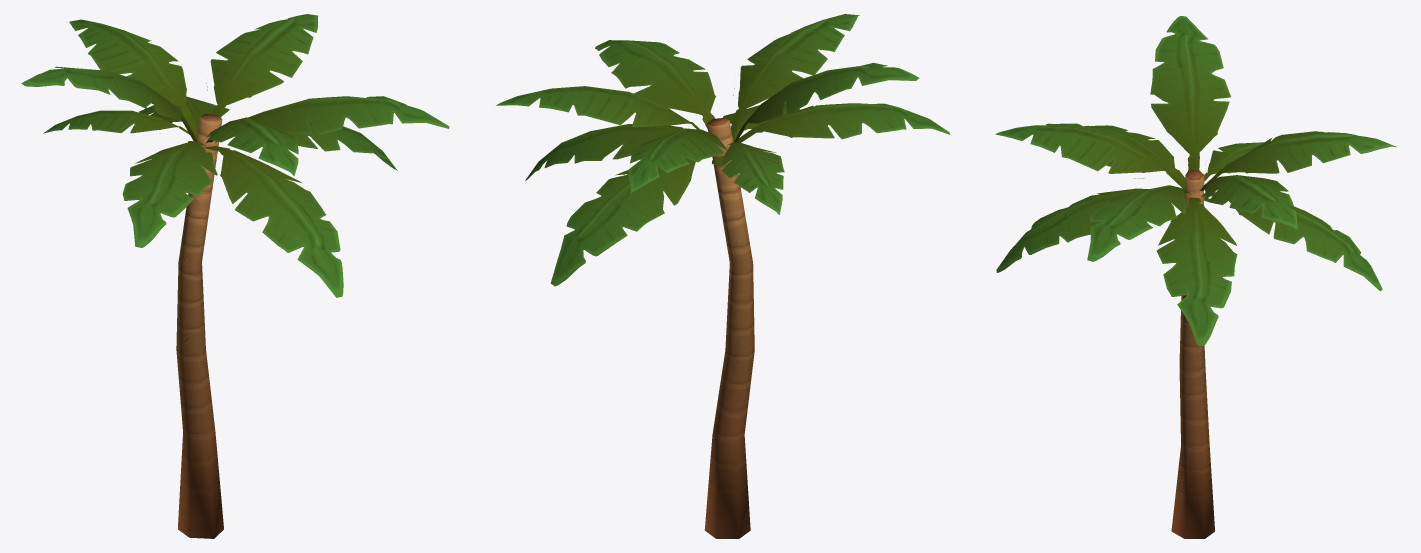
The picture shows the model from 3 angles, left to right: view 1: azimuth 30°, elevation 25°; view 2: azimuth 150°, elevation 25°; view 3: azimuth 270°, elevation 25°; orthographic projection. The views are drawn at different scales.
Visible parts, largest first — view 1: Palm Tree 1; view 2: Palm Tree 1; view 3: Palm Tree 1.
Part boxes in pixels (x1=…): Palm Tree 1: x1=21, y1=14, x2=449, y2=538; Palm Tree 1: x1=496, y1=14, x2=950, y2=538; Palm Tree 1: x1=995, y1=16, x2=1396, y2=538.
Bounding box in the file's own units: 2.66 × 3.22 × 2.8.
Materials: 1 (1 with a texture image).
